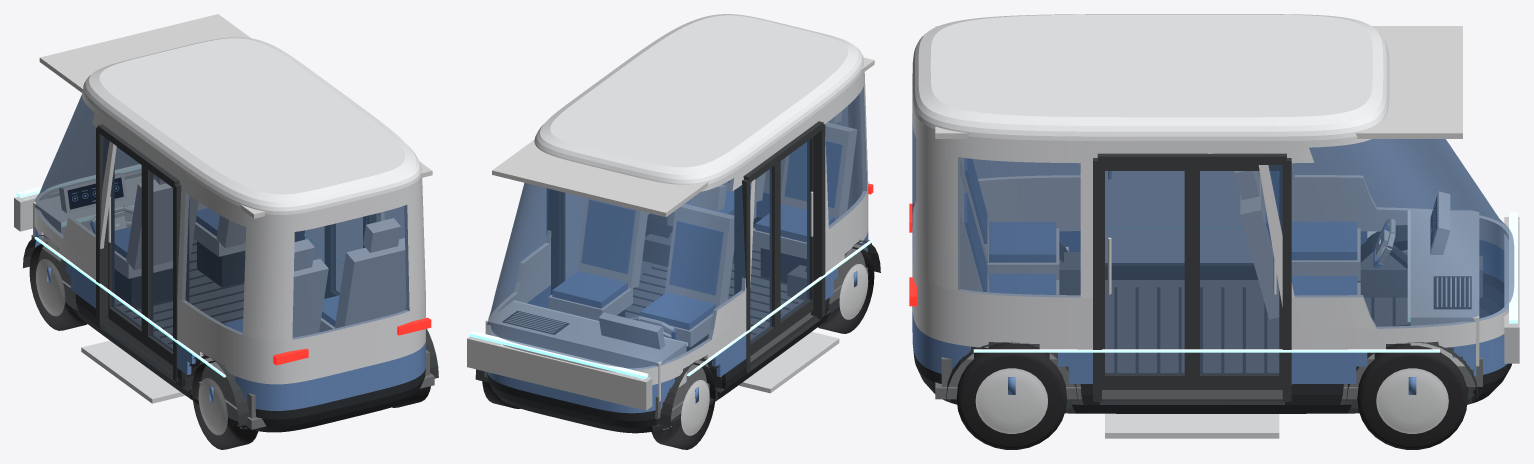
Rendered from pod.glb.
The picture shows the model from 3 angles, left to right: view 1: azimuth 30°, elevation 25°; view 2: azimuth 150°, elevation 25°; view 3: azimuth 270°, elevation 25°; orthographic projection. The views are drawn at different scales.
Visible parts, largest first — view 1: body, interior, body_glass, trim, door_L1, door_L2, tyre_BL, tyre_FL, door_R2, door_R1; view 2: body, interior, body_glass, trim, door_L2, door_L1, tyre_FL, tyre_BL, door_R1; view 3: body, interior, body_glass, door_R2, door_R1, trim, tyre_BR, tyre_FR, door_L2, door_L1, steering_wheel.
Part boxes in pixels (x1=…): body: x1=34, y1=37, x2=425, y2=432; interior: x1=31, y1=14, x2=434, y2=429; body_glass: x1=34, y1=94, x2=409, y2=339; trim: x1=14, y1=124, x2=438, y2=426; door_L1: x1=108, y1=140, x2=144, y2=344; door_L2: x1=144, y1=167, x2=172, y2=365; tyre_BL: x1=192, y1=360, x2=258, y2=449; tyre_FL: x1=29, y1=242, x2=87, y2=330; door_R2: x1=327, y1=216, x2=367, y2=297; door_R1: x1=294, y1=225, x2=327, y2=298; body: x1=486, y1=14, x2=868, y2=433; interior: x1=484, y1=57, x2=874, y2=420; body_glass: x1=486, y1=87, x2=867, y2=369; trim: x1=467, y1=121, x2=880, y2=426; door_L2: x1=777, y1=137, x2=813, y2=335; door_L1: x1=750, y1=163, x2=777, y2=355; tyre_FL: x1=651, y1=363, x2=715, y2=449; tyre_BL: x1=818, y1=247, x2=874, y2=333; door_R1: x1=561, y1=192, x2=585, y2=283; body: x1=912, y1=14, x2=1511, y2=413; interior: x1=935, y1=26, x2=1482, y2=399; body_glass: x1=912, y1=114, x2=1514, y2=328; door_R2: x1=1102, y1=165, x2=1192, y2=389; door_R1: x1=1192, y1=165, x2=1282, y2=389; trim: x1=909, y1=153, x2=1519, y2=438; tyre_BR: x1=956, y1=343, x2=1066, y2=449; tyre_FR: x1=1357, y1=343, x2=1467, y2=449; door_L2: x1=1105, y1=171, x2=1184, y2=279; door_L1: x1=1200, y1=171, x2=1257, y2=279; steering_wheel: x1=1373, y1=219, x2=1395, y2=268.
Bounding box in the file's own units: 2.27 × 2.35 × 3.99.
